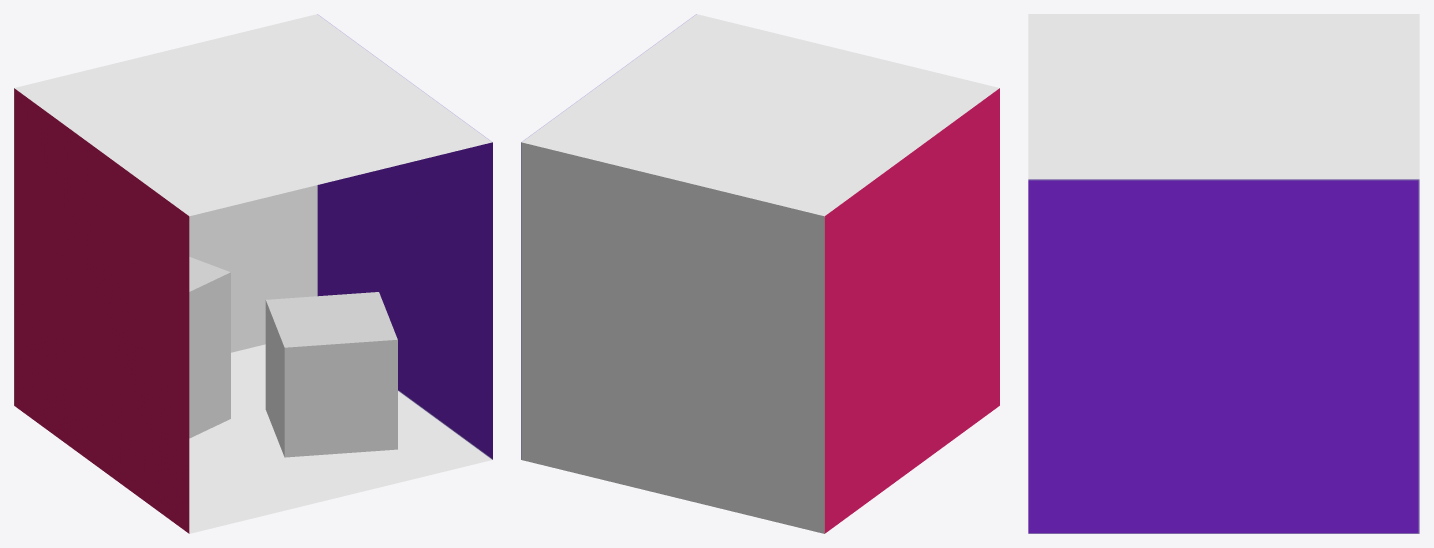
File: cornell.gltf
3 renders of one model, left to right at view 1: azimuth 30°, elevation 25°; view 2: azimuth 150°, elevation 25°; view 3: azimuth 270°, elevation 25°, orthographic. The views are drawn at different scales.
Visible parts, largest first — view 1: 立方体.002_立方体.007, 立方体_立方体.003, 立方体.001_立方体.004; view 2: 立方体.002_立方体.007; view 3: 立方体.002_立方体.007.
Part boxes in pixels (x1,y1,x2,y2): 立方体.002_立方体.007: (14,14,492,533); 立方体_立方体.003: (265,292,397,457); 立方体.001_立方体.004: (189,257,230,438); 立方体.002_立方体.007: (521,14,999,533); 立方体.002_立方体.007: (1028,14,1419,533).
Bounding box in the file's own units: 4 × 4 × 4.
Materials: 2 (1 with a texture image).
